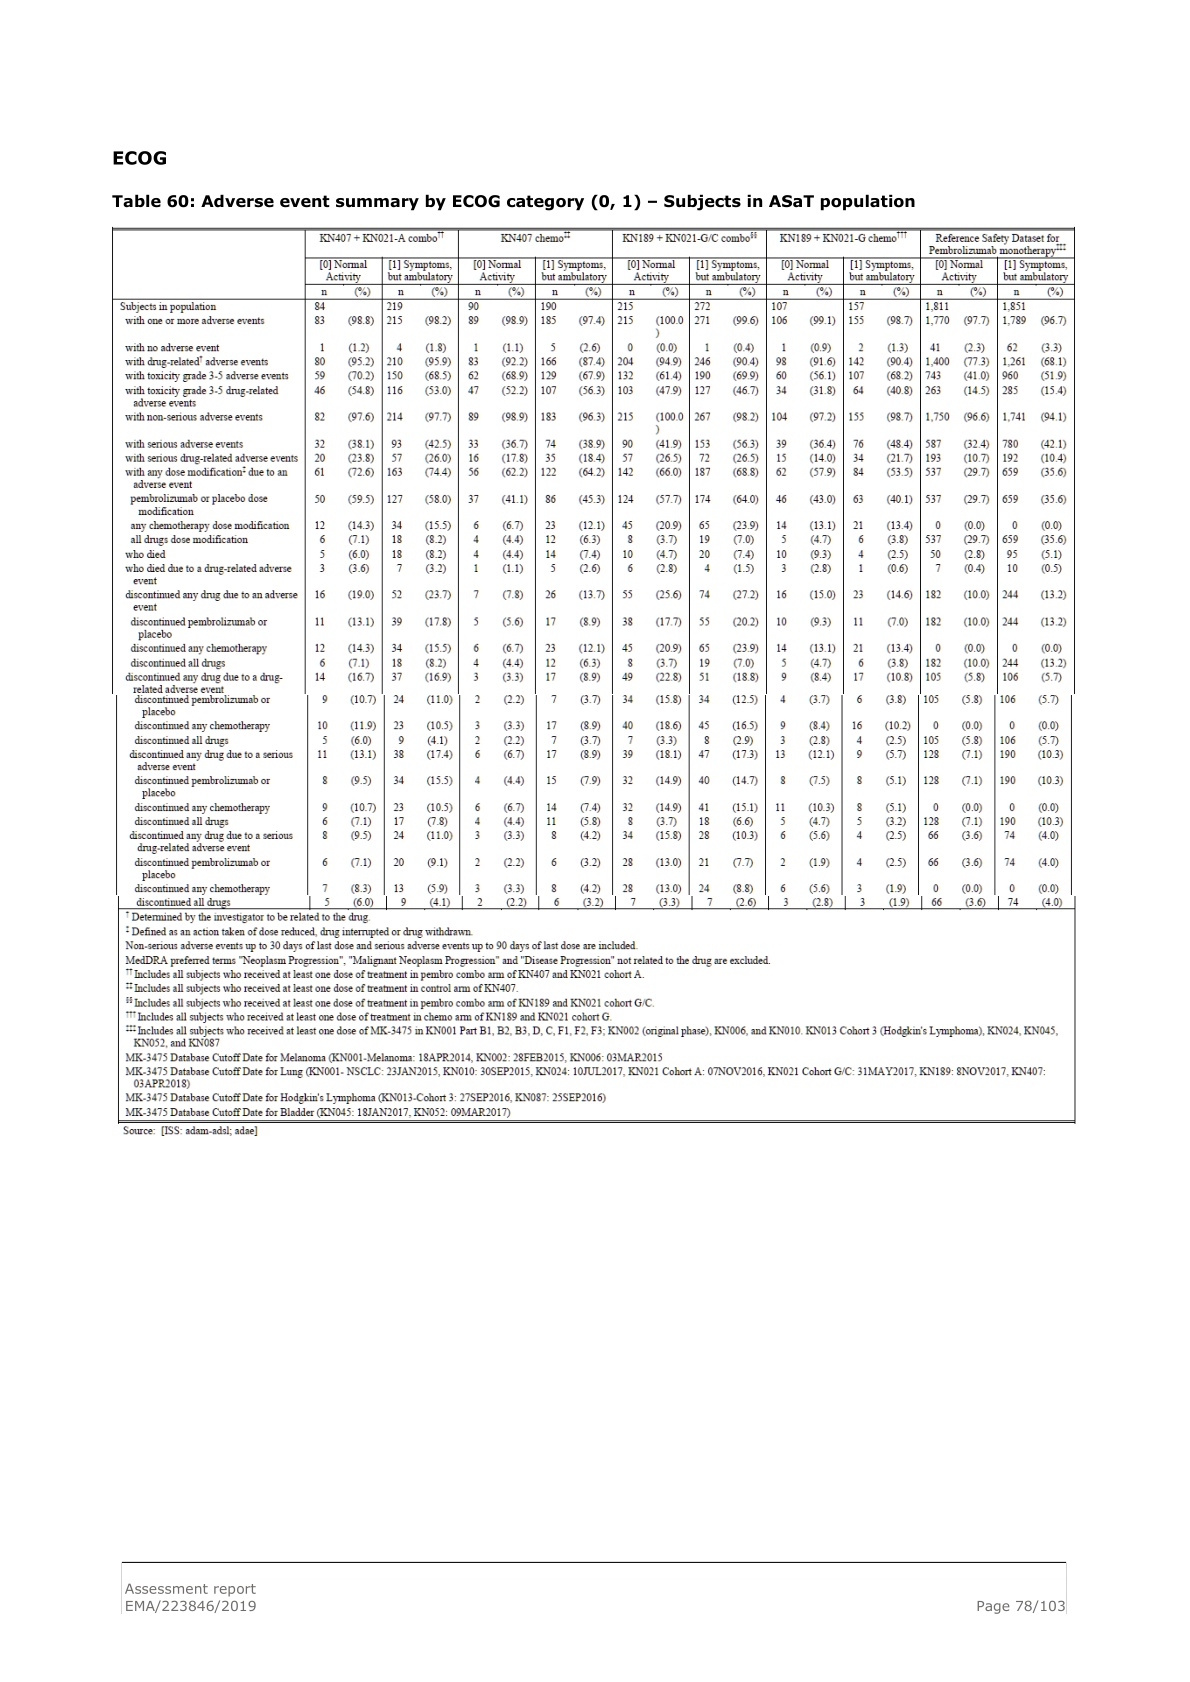merged_cells: (111, 227, 1077, 1126)
